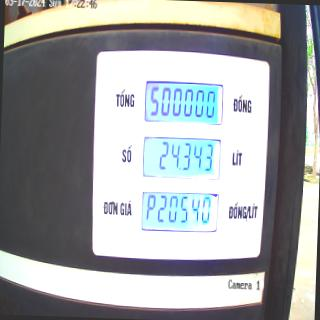screen: (139, 78, 225, 238)
